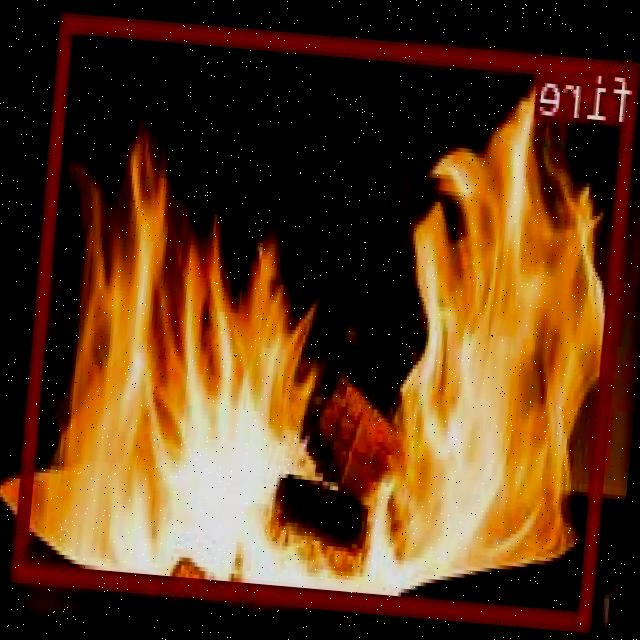fire: (16, 11, 640, 629)
